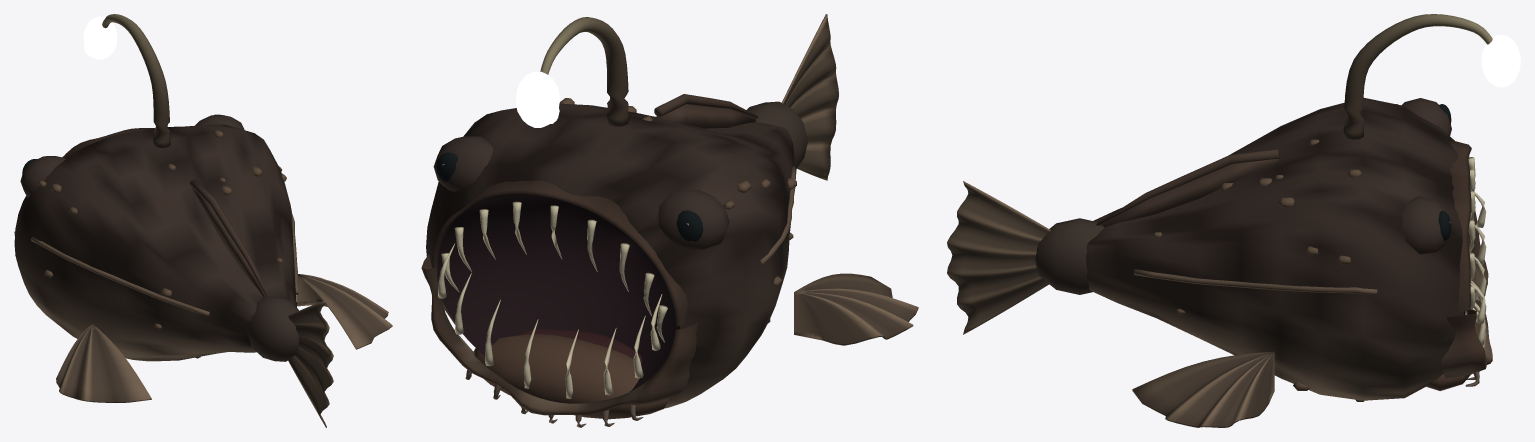
The model's file is rape-abisal.glb.
The picture shows the model from 3 angles, left to right: view 1: azimuth 30°, elevation 25°; view 2: azimuth 150°, elevation 25°; view 3: azimuth 270°, elevation 25°; orthographic projection. The views are drawn at different scales.
Parts seen in each view (by area): view 1: Cuerpo ojos dientes superiores, Cola caudal corta, Pectoral -1, Pectoral 1, Cana illicium, Senuelo esca; view 2: Cuerpo ojos dientes superiores, Mandibula inferior dientes y papilas, Pectoral -1, Cola caudal corta, Cana illicium, Senuelo esca; view 3: Cuerpo ojos dientes superiores, Cola caudal corta, Pectoral 1, Mandibula inferior dientes y papilas, Cana illicium, Senuelo esca.
Part boxes in pixels (box(x1,y1,x2,y2)): Cuerpo ojos dientes superiores: box(14, 114, 298, 361); Cola caudal corta: box(248, 296, 333, 427); Pectoral -1: box(56, 324, 151, 402); Pectoral 1: box(297, 274, 392, 349); Cana illicium: box(102, 14, 170, 147); Senuelo esca: box(83, 16, 117, 59); Cuerpo ojos dientes superiores: box(426, 94, 796, 408); Mandibula inferior dientes y papilas: box(421, 243, 697, 427); Pectoral -1: box(794, 273, 918, 345); Cola caudal corta: box(746, 14, 838, 180); Cana illicium: box(540, 17, 629, 126); Senuelo esca: box(516, 71, 559, 127); Cuerpo ojos dientes superiores: box(1086, 98, 1475, 401); Cola caudal corta: box(947, 181, 1104, 334); Pectoral 1: box(1132, 351, 1274, 427); Mandibula inferior dientes y papilas: box(1426, 192, 1492, 390); Cana illicium: box(1343, 14, 1492, 139); Senuelo esca: box(1481, 34, 1520, 87).
Size of the model in its own units: 2.31 by 2.07 by 2.91.
